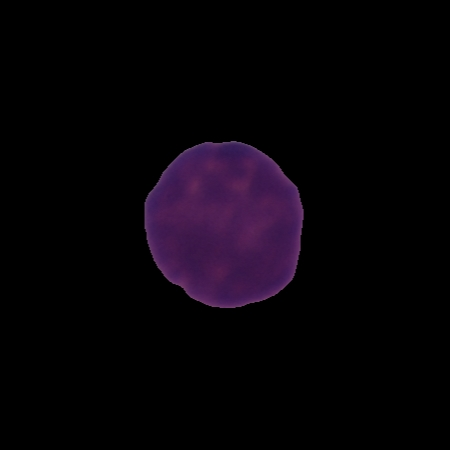HEM: (141, 138, 307, 311)
